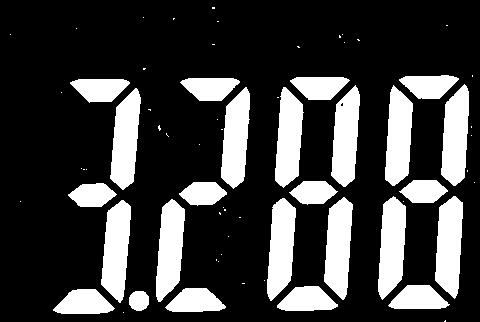2: (157, 75, 252, 314)
3: (50, 74, 143, 314)
8: (266, 72, 363, 314), (375, 71, 471, 313)
dot: (127, 287, 152, 314)
